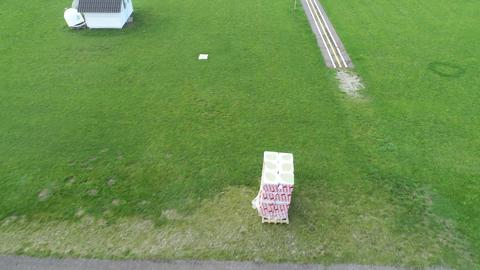RockwoolPallet: (256, 149, 294, 221)
